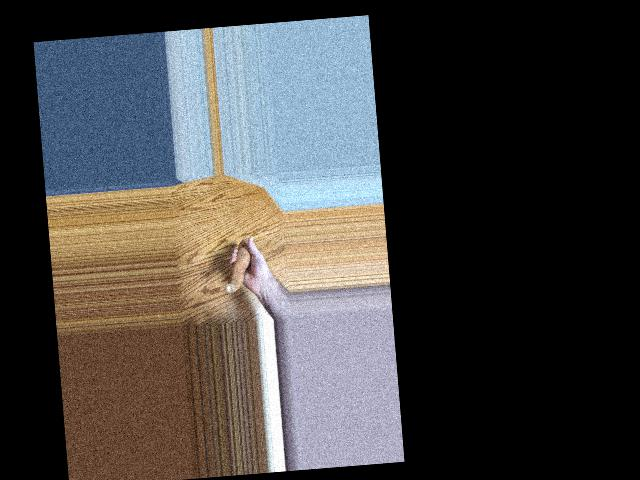sweet_potato: (223, 239, 256, 295)
